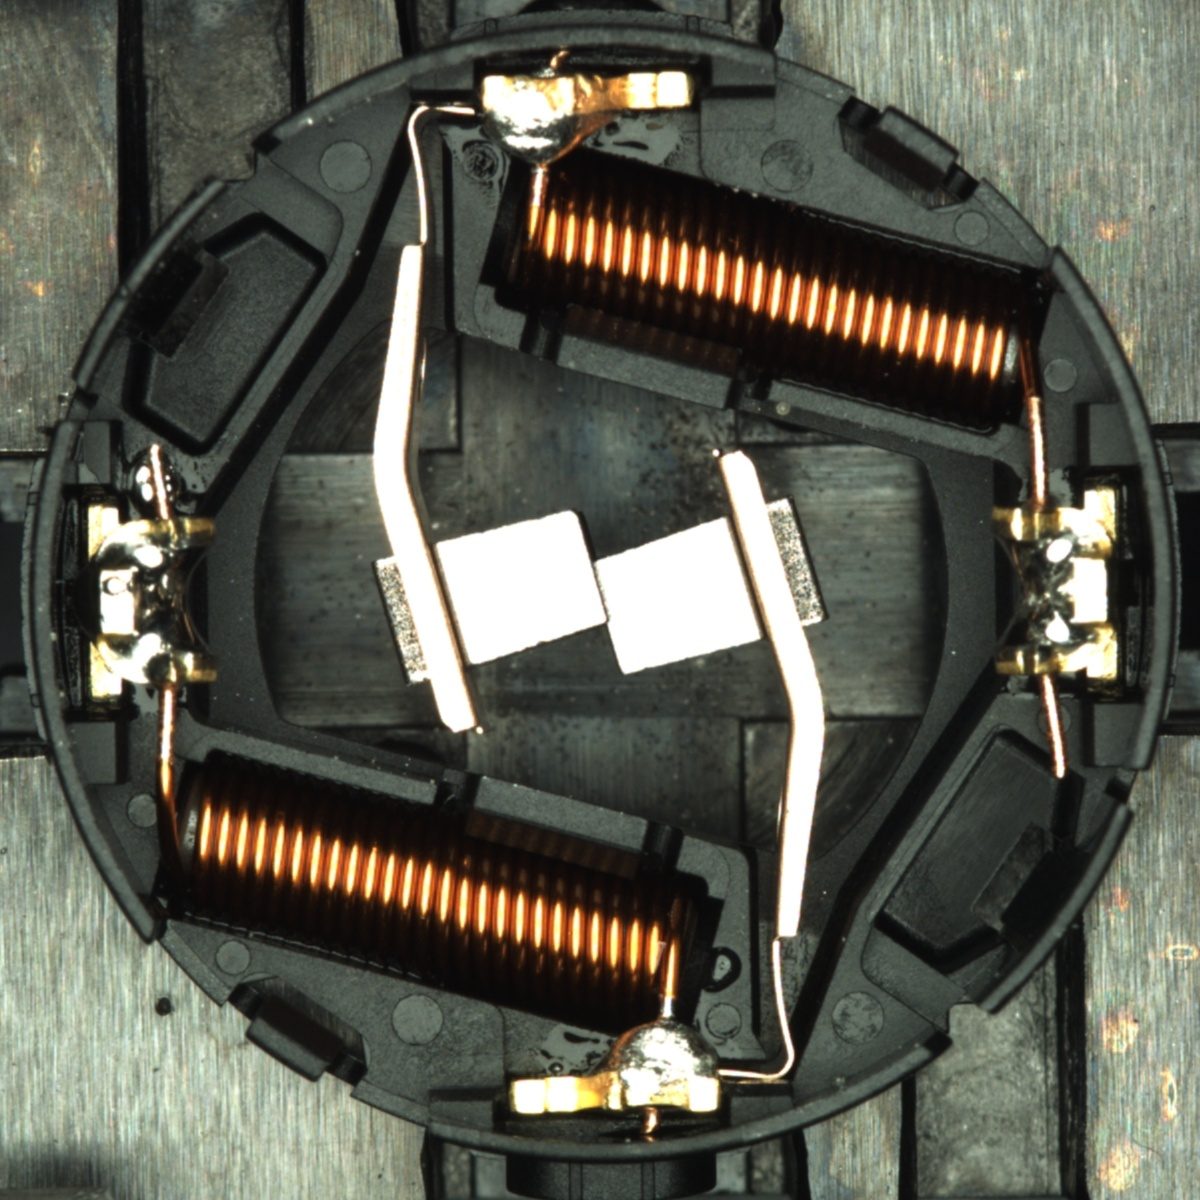1: (253, 31, 482, 255), (712, 929, 941, 1153)
2: (253, 929, 482, 1153), (712, 31, 941, 255)
3: (24, 255, 253, 480), (941, 704, 1170, 929)
4: (253, 255, 482, 480), (712, 704, 941, 929)
5: (482, 143, 712, 368), (482, 816, 712, 1041)
6: (712, 255, 941, 480), (253, 704, 482, 929)
7: (941, 255, 1170, 480), (24, 704, 253, 929)
cacbon: (398, 499, 796, 685)
chau_dien: (82, 500, 221, 701), (984, 488, 1124, 686)
hat_chi: (130, 458, 181, 511)
tay_choi: (479, 71, 696, 171), (509, 1016, 723, 1116)
thanh_de: (955, 788, 1142, 1031), (60, 167, 244, 405)
vun_chi: (133, 462, 178, 505)
